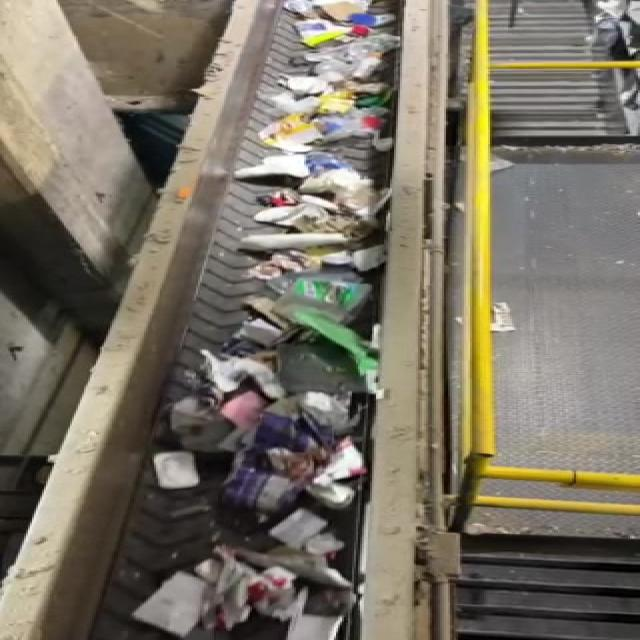paper: (282, 319, 379, 415), (238, 418, 322, 508)
pp: (138, 557, 216, 637), (242, 516, 360, 548), (293, 586, 355, 640), (162, 448, 216, 499), (280, 282, 361, 307)
